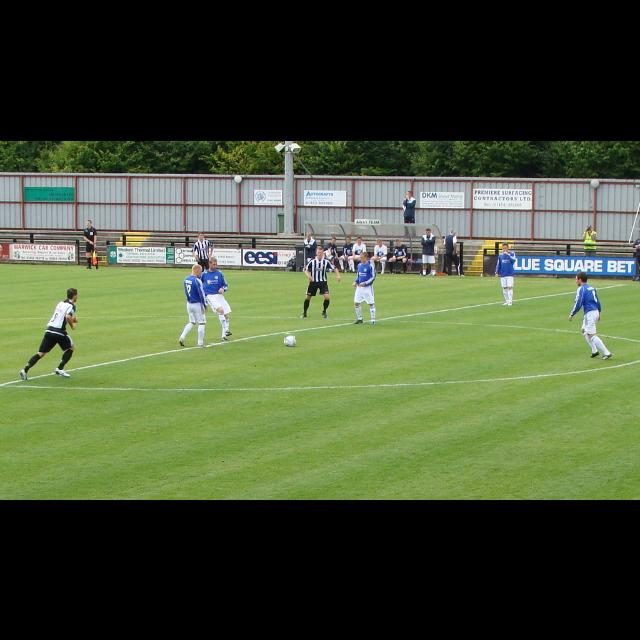Football: (285, 334, 295, 344)
